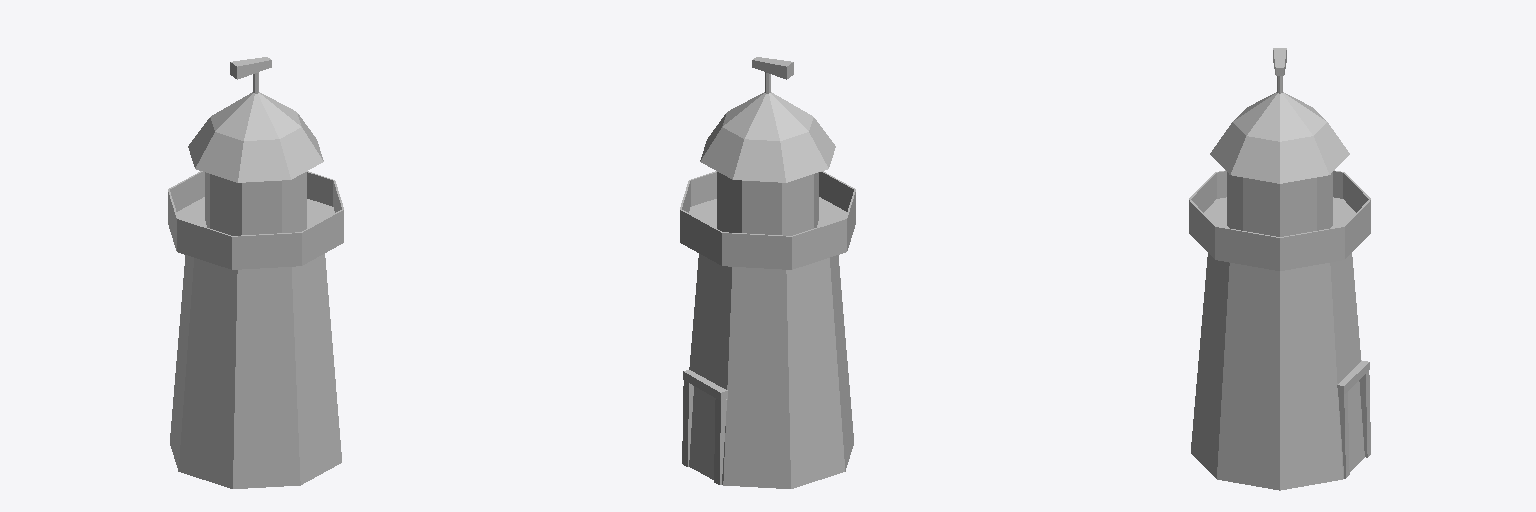
File: Lighthouse.obj
3 renders of one model, left to right at view 1: azimuth 30°, elevation 25°; view 2: azimuth 150°, elevation 25°; view 3: azimuth 270°, elevation 25°, orthographic.
Parts seen in each view (by area): view 1: pCylinder1, pCube1; view 2: pCylinder1, pCube4, pCube3, pCube1, pCube2; view 3: pCylinder1, pCube4, pCube3.
Boxes of the visible parts, x1=… form: pCylinder1: x1=168, y1=72, x2=343, y2=488; pCube1: x1=230, y1=57, x2=271, y2=79; pCylinder1: x1=680, y1=72, x2=855, y2=488; pCube4: x1=714, y1=399, x2=727, y2=484; pCube3: x1=682, y1=380, x2=693, y2=466; pCube1: x1=752, y1=57, x2=793, y2=79; pCube2: x1=683, y1=370, x2=727, y2=400; pCylinder1: x1=1189, y1=76, x2=1370, y2=490; pCube4: x1=1359, y1=371, x2=1370, y2=457; pCube3: x1=1338, y1=392, x2=1349, y2=478.
Bounding box in the file's own units: 4.46 × 10.61 × 4.46.